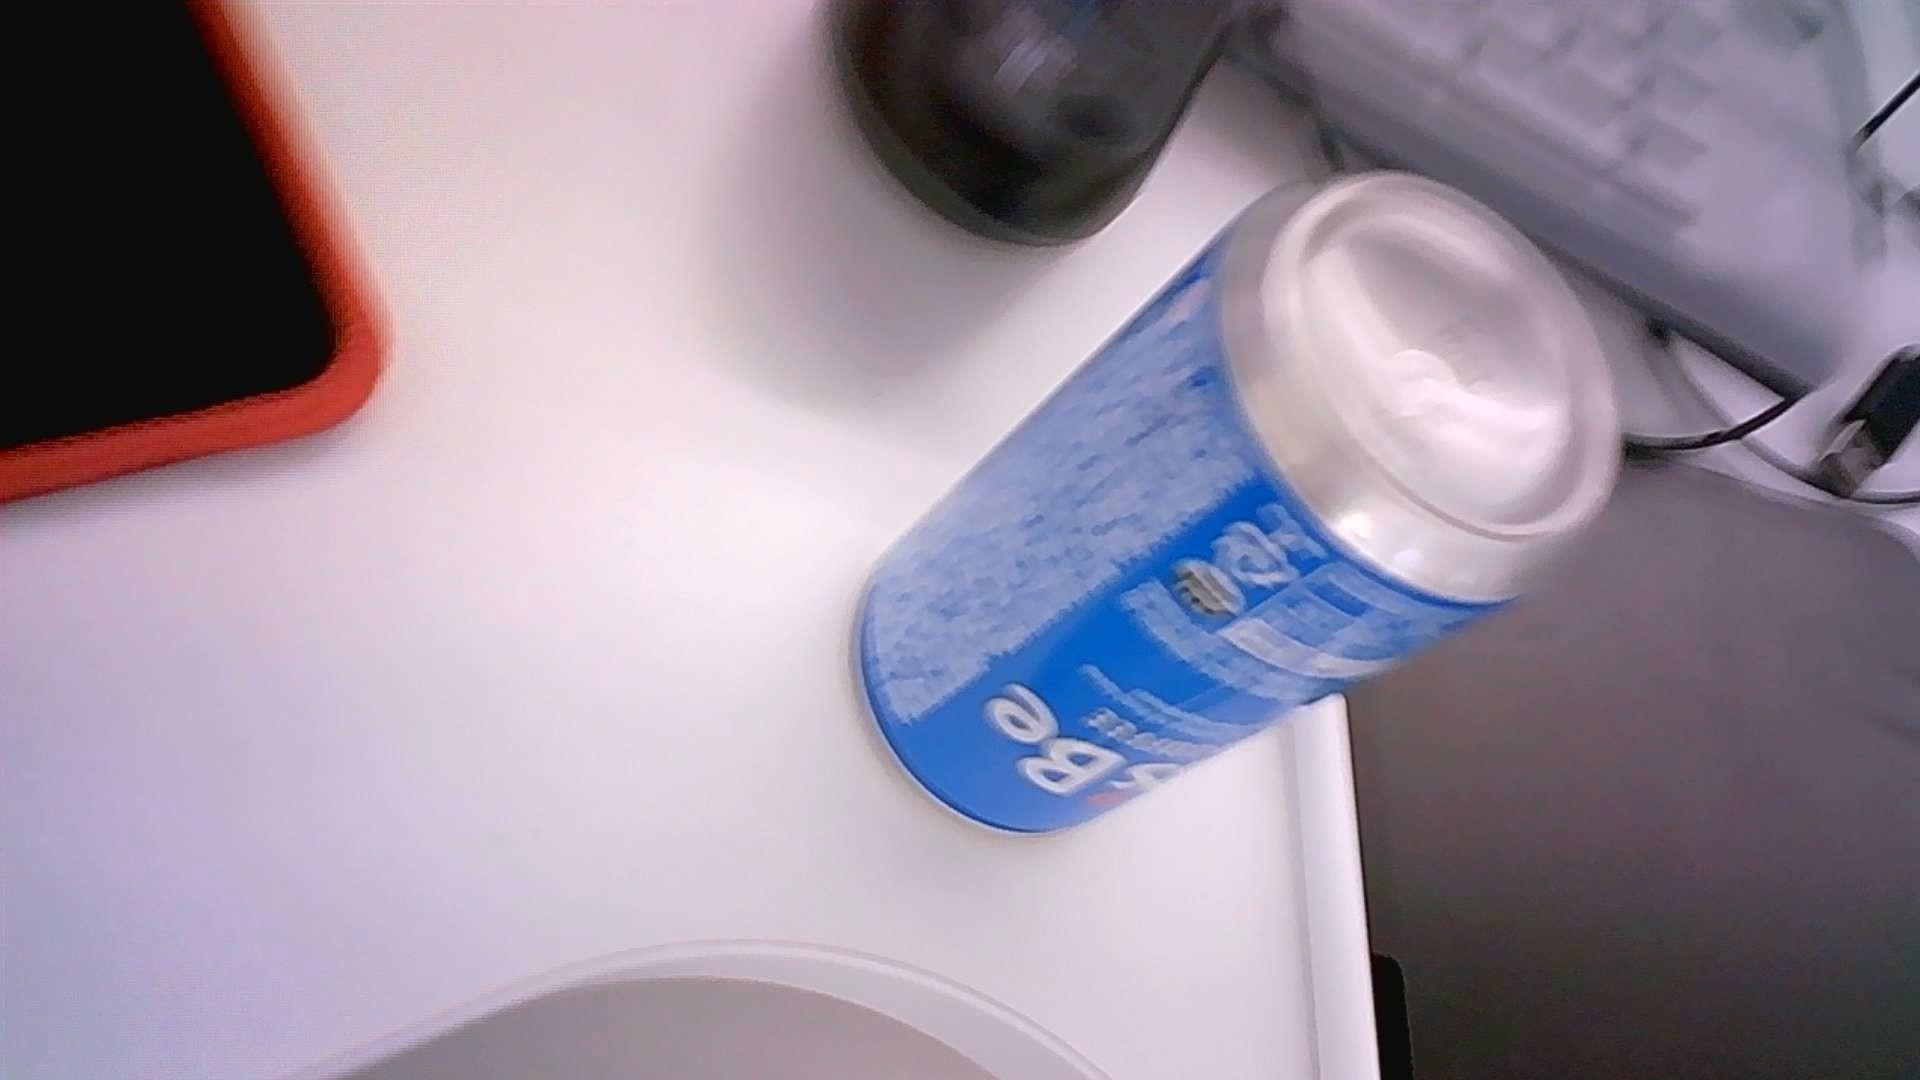letsbe: (851, 167, 1619, 835)
